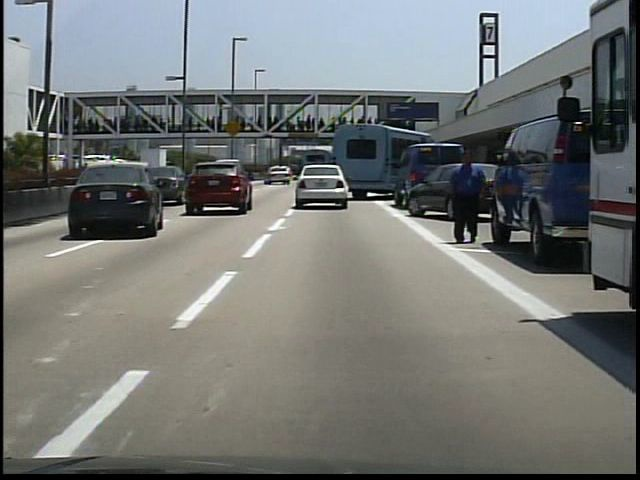person: (444, 147, 494, 248)
